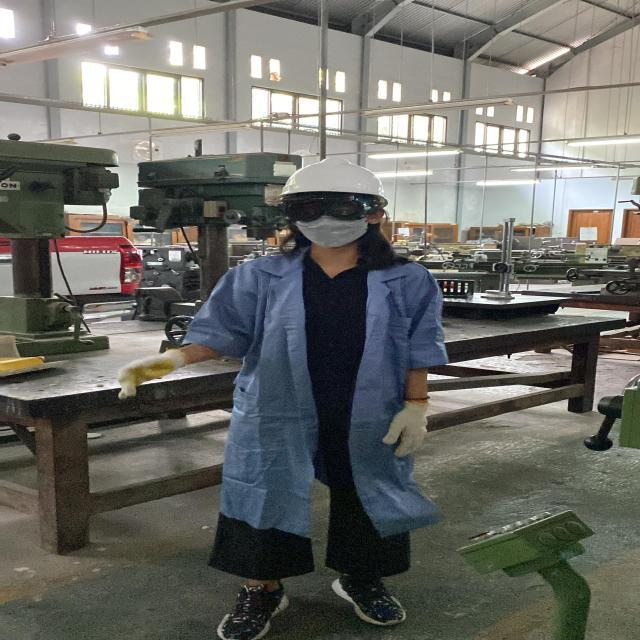glasses: (268, 192, 378, 222)
